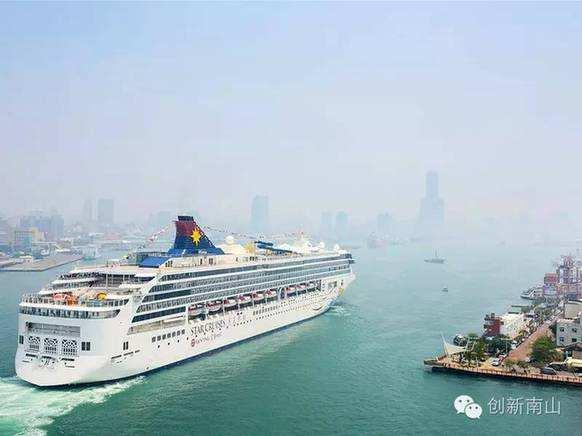youlun: (11, 214, 358, 390)
